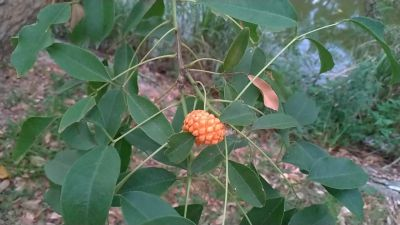eggs: (180, 106, 228, 148)
